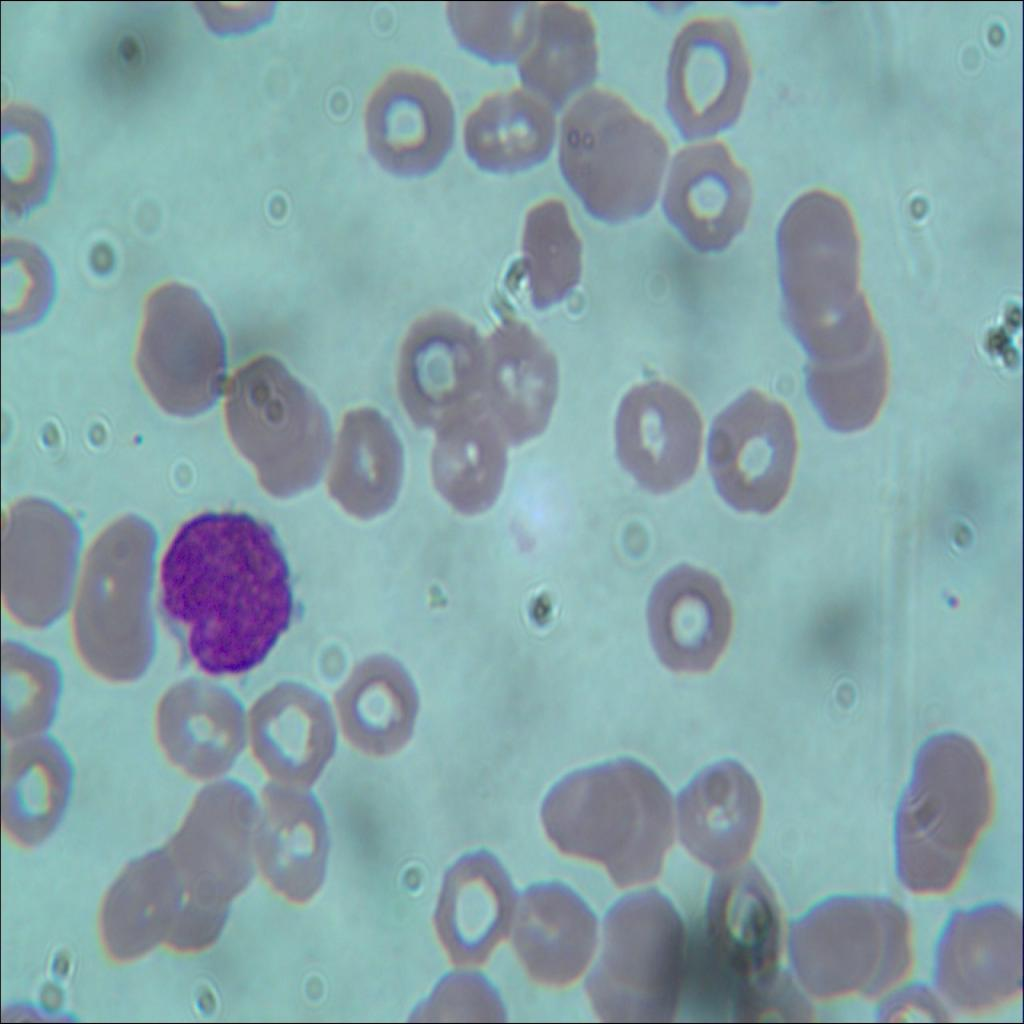Eritrosit: (603, 372, 715, 500), (555, 91, 659, 225), (646, 544, 740, 690), (135, 281, 235, 417), (654, 134, 758, 264), (711, 381, 801, 525), (583, 749, 674, 887), (362, 65, 463, 185), (332, 647, 426, 767), (466, 321, 564, 435), (0, 494, 81, 631), (796, 330, 896, 440), (424, 835, 510, 961), (255, 784, 342, 908), (328, 409, 414, 532), (248, 668, 342, 778), (390, 314, 481, 424), (506, 881, 601, 986), (774, 268, 880, 362), (71, 518, 159, 628), (934, 900, 1023, 1008), (173, 782, 258, 895), (770, 180, 852, 296), (678, 758, 764, 868), (541, 765, 639, 861), (150, 671, 244, 771), (836, 879, 914, 998), (0, 725, 78, 844), (516, 0, 602, 106), (142, 848, 231, 950), (468, 81, 562, 177), (788, 895, 882, 991), (912, 734, 990, 847), (706, 854, 778, 975), (574, 944, 683, 1023), (670, 25, 748, 131), (896, 792, 973, 898), (74, 598, 160, 688), (432, 408, 502, 518), (263, 395, 335, 501), (0, 632, 69, 740), (602, 884, 683, 974), (98, 865, 176, 958), (513, 212, 579, 318), (0, 242, 69, 341), (231, 351, 301, 448), (441, 0, 536, 68), (0, 104, 58, 214)
Limfoblast: (149, 512, 299, 669)
Platelet: (126, 417, 158, 451), (941, 584, 966, 621)
